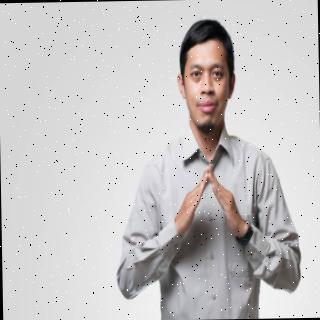House: (173, 156, 246, 244)
